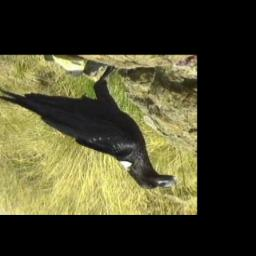Crow: (0, 63, 178, 191)
